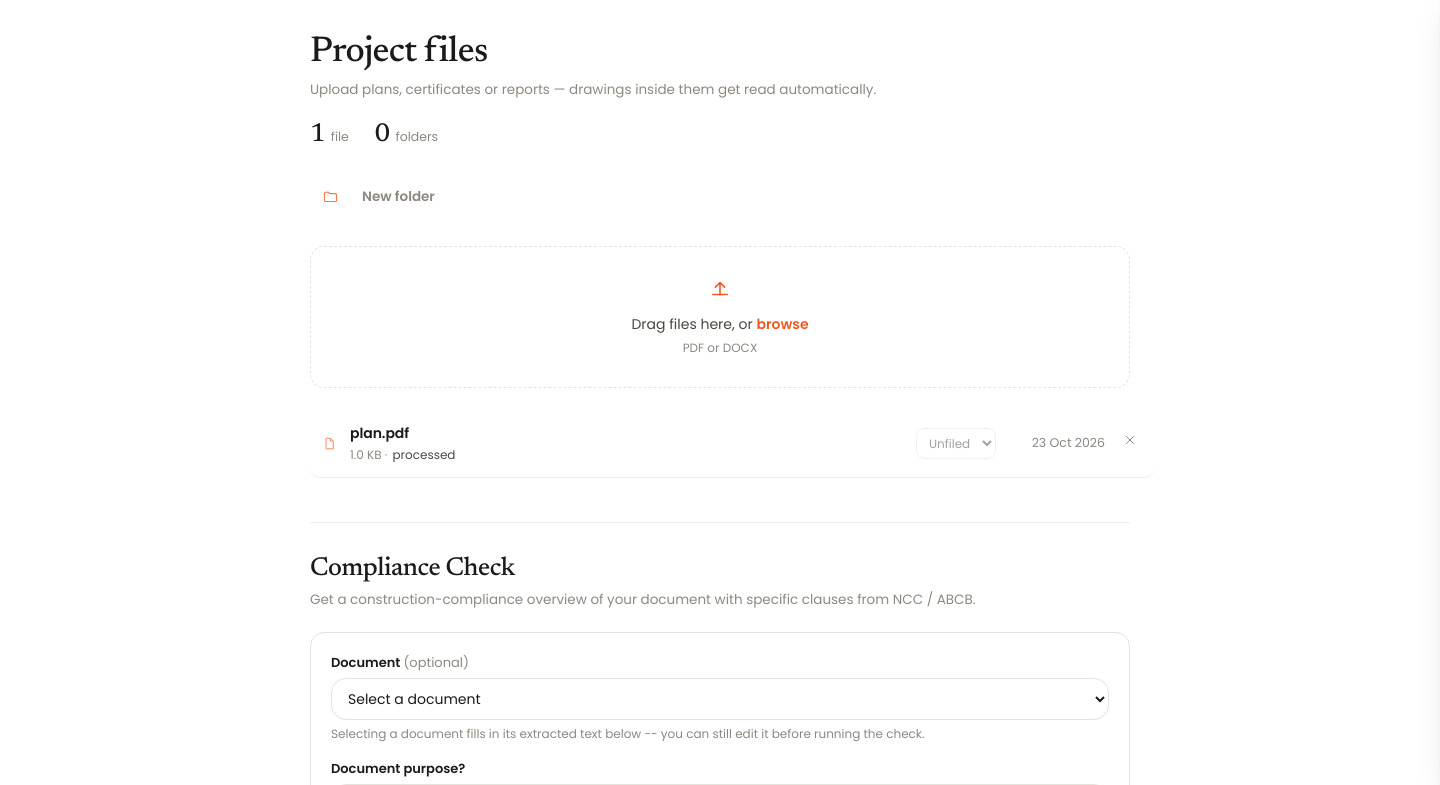
Test: UploadPage › selecting an uploaded document fills the compliance-check text box with its extracted text
The image size is (1440, 785).
Select "plan.pdf" in the dropdown labelled "Document (optional)" at (720, 700), box [331,678,1109,720]
(page scrolled)
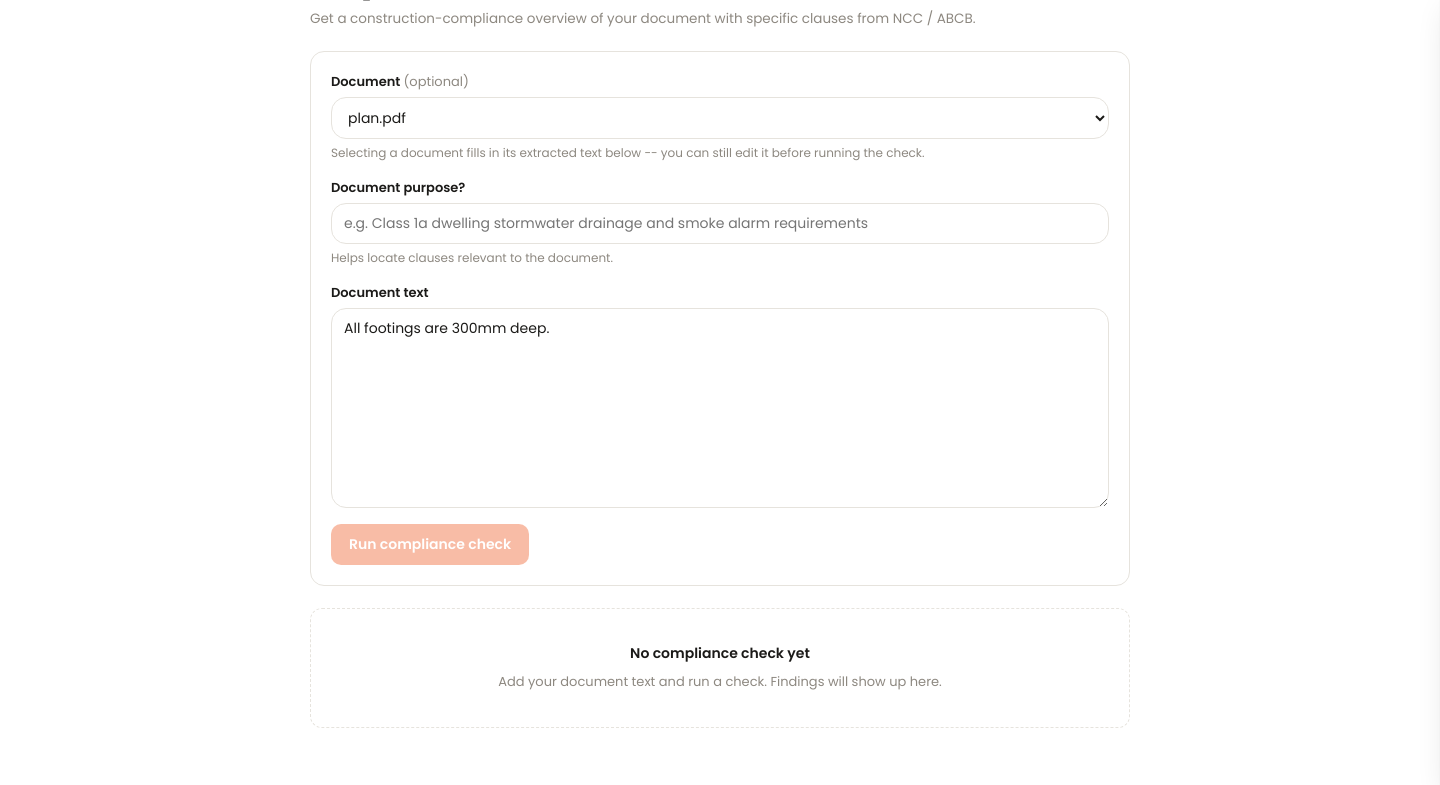
Now the text box labelled "Document text" holds "All footings are 300mm deep.", box [331,308,1109,508]
